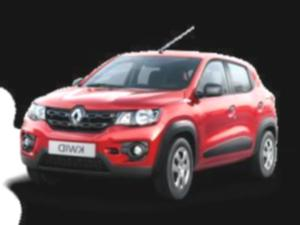License_Plate: (45, 136, 98, 162)
